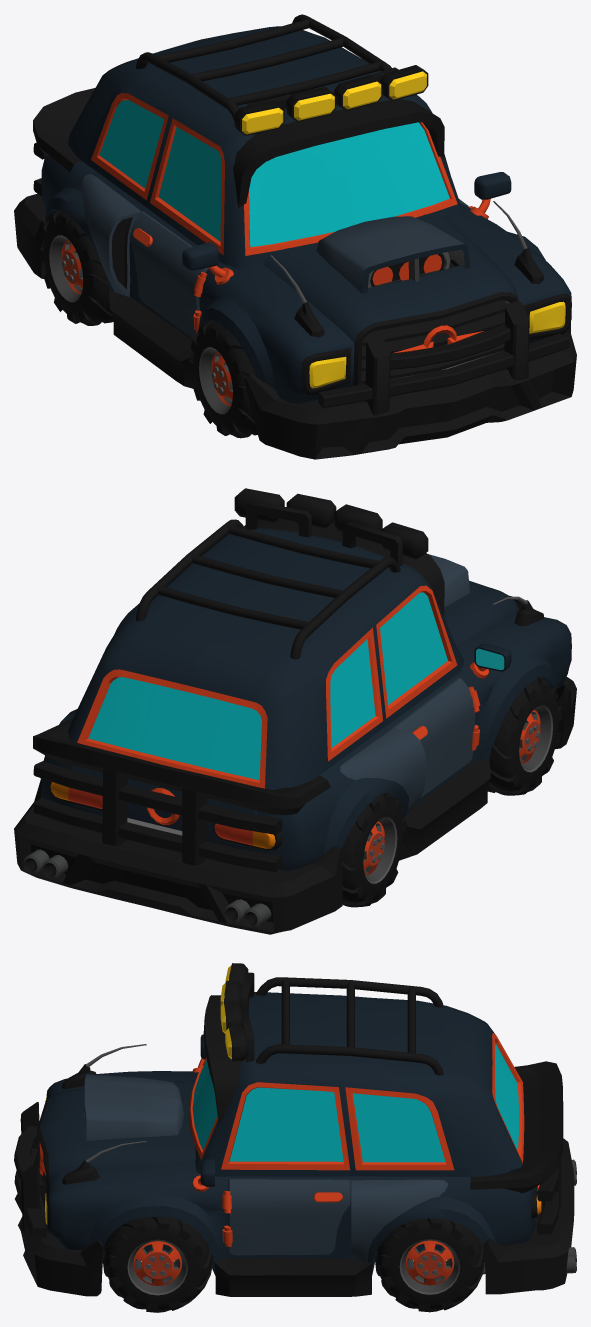
The model's file is VEH11-C.fbx.
The picture shows the model from 3 angles, top to bottom: view 1: azimuth 30°, elevation 25°; view 2: azimuth 150°, elevation 25°; view 3: azimuth 270°, elevation 25°; orthographic projection. The views are drawn at different scales.
Visible parts, largest first — view 1: VEH11_C, V11C_Wheel_BR, V11C_Wheel_FR; view 2: VEH11_C, V11C_Wheel_FR, V11C_Wheel_BR; view 3: VEH11_C, V11C_Wheel_FL, V11C_Wheel_BL.
Part boxes in pixels (bbox=[...]): VEH11_C: bbox=[14, 14, 576, 459]; V11C_Wheel_BR: bbox=[40, 209, 113, 325]; V11C_Wheel_FR: bbox=[189, 319, 257, 438]; VEH11_C: bbox=[14, 488, 576, 934]; V11C_Wheel_FR: bbox=[487, 677, 562, 795]; V11C_Wheel_BR: bbox=[342, 792, 406, 907]; VEH11_C: bbox=[14, 963, 576, 1296]; V11C_Wheel_FL: bbox=[103, 1216, 212, 1312]; V11C_Wheel_BL: bbox=[374, 1218, 484, 1312].
Bounding box in the file's own units: 269 × 224 × 454.
1 material, 1 textured.
